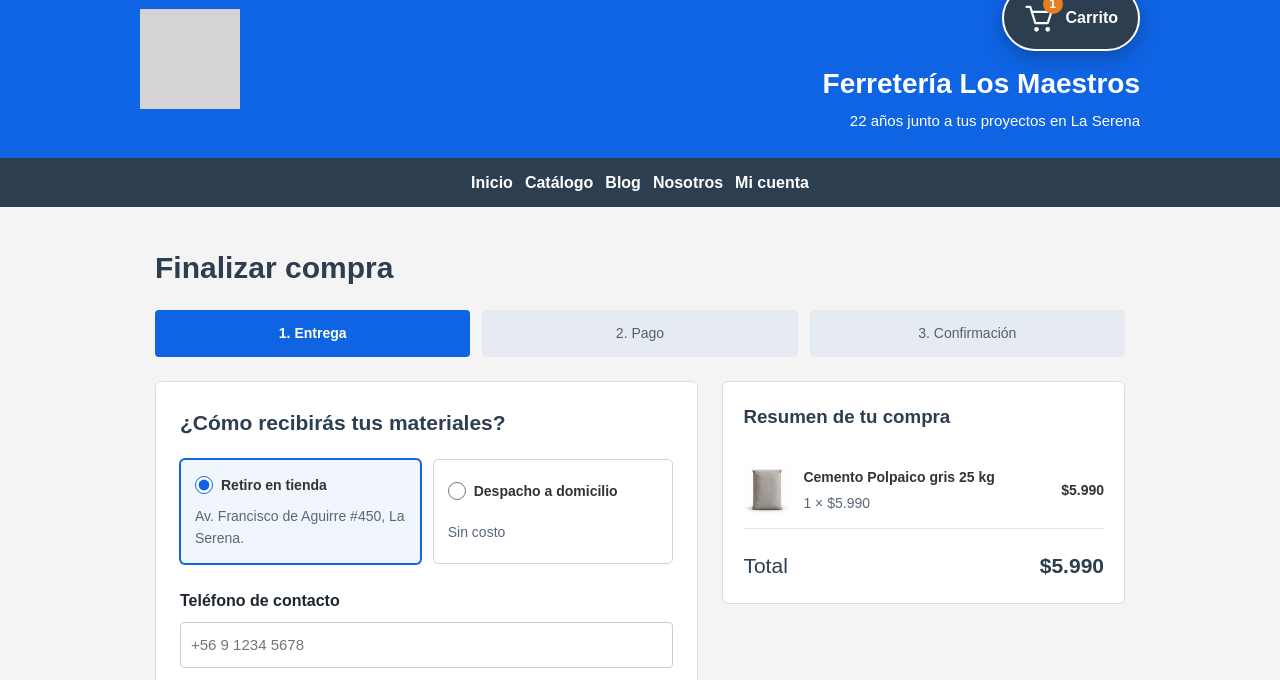
Test case: un pago rechazado conserva el carrito y permite reintentar hasta obtener el comprobante
Type "+56912345678" into the field labelled "Teléfono de contacto" at x=427, y=645, box [180,622,673,668]
(page scrolled)
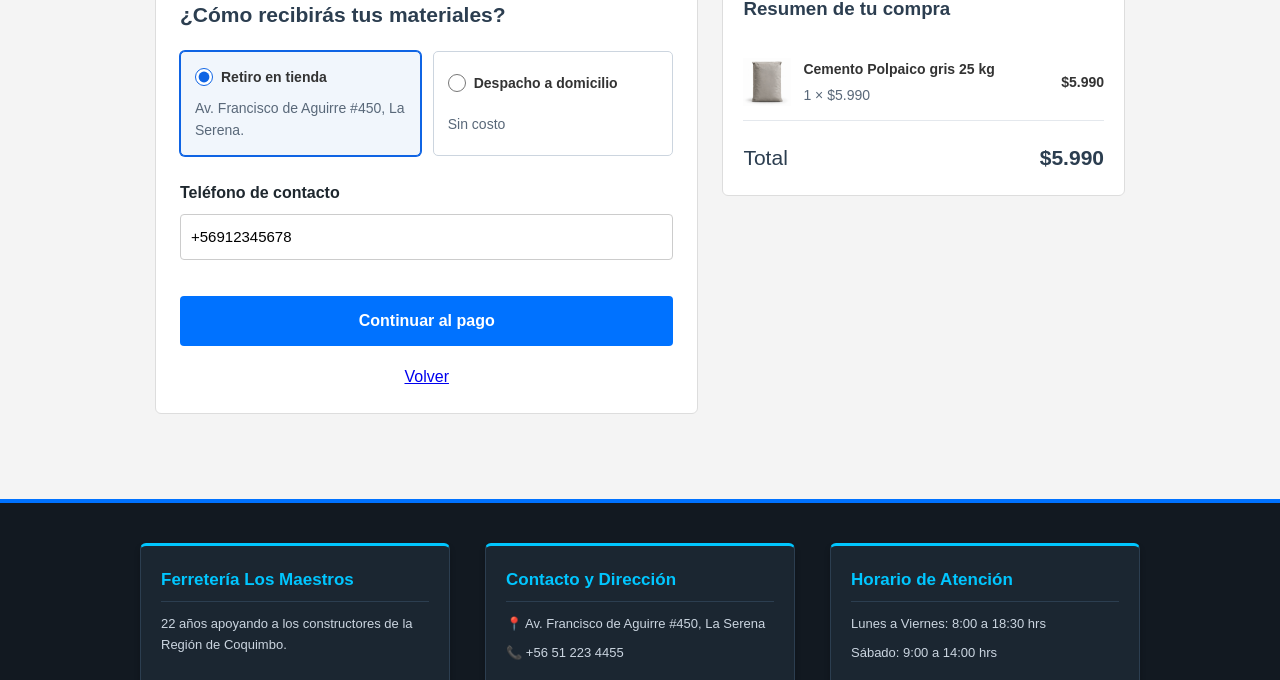
Click the button "Continuar al pago" at x=427, y=321, box [180,296,673,346]
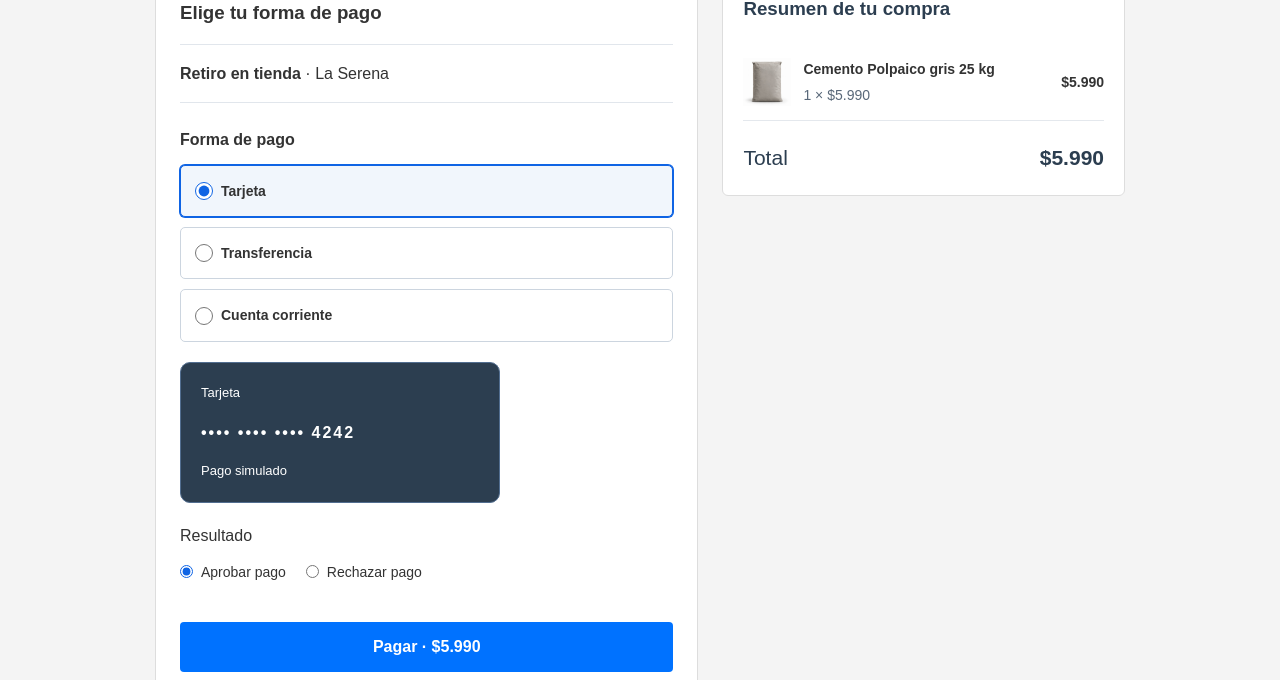
Click the radio button labelled "Rechazar pago" at x=312, y=572, box [306,565,319,578]
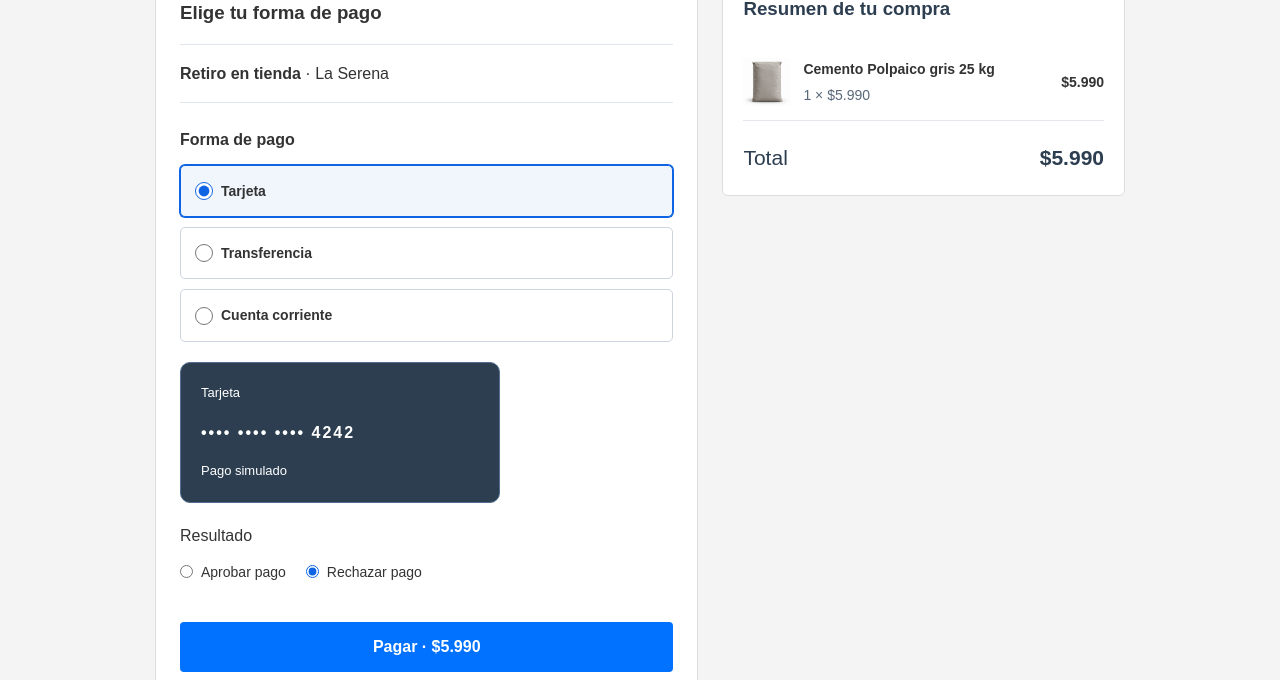
Click the button "Pagar · $5.990" at x=427, y=647, box [180,622,673,672]
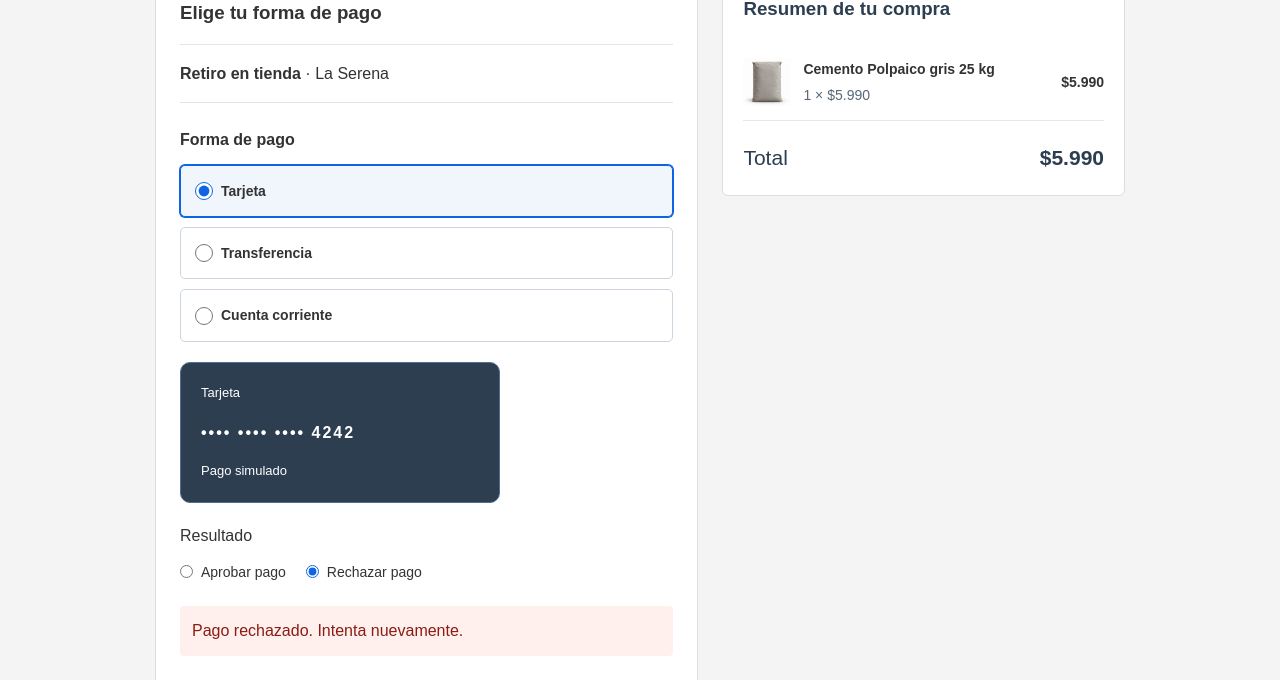
Expected: the message shows "rechazado", [192,622,463,639]
Click the radio button labelled "Aprobar pago" at x=186, y=572, box [180,565,193,578]
(page scrolled)
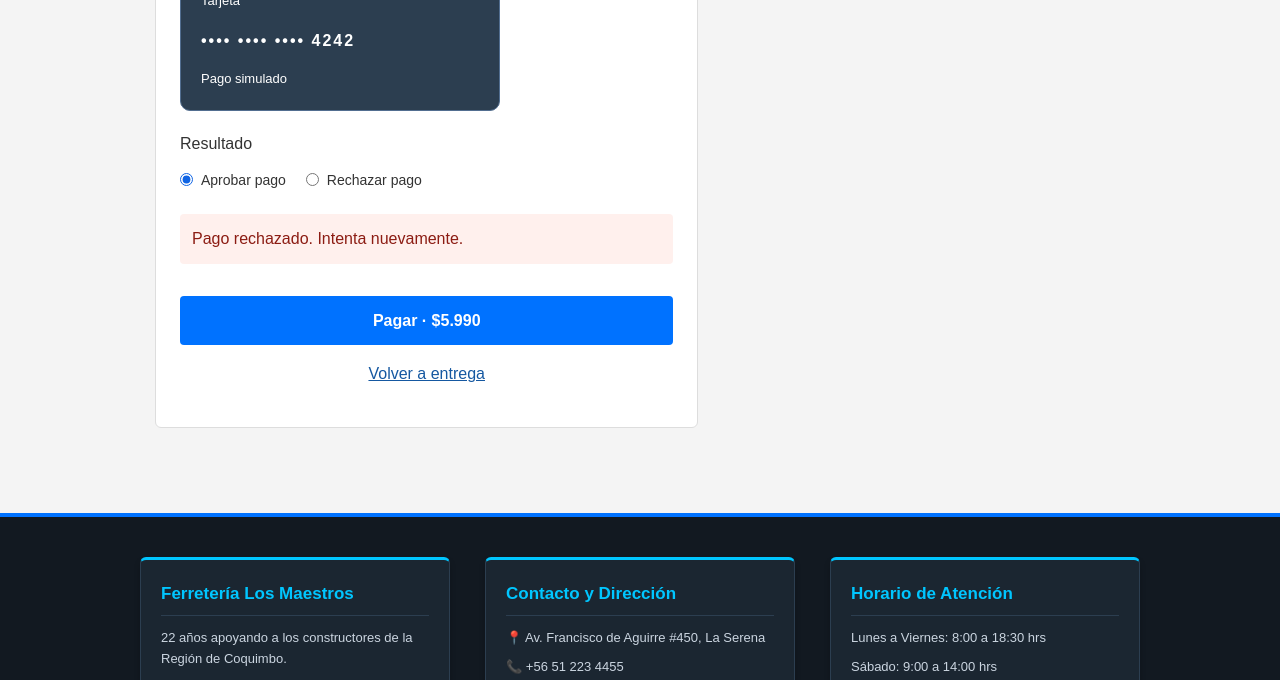
Click the button "Pagar · $5.990" at x=427, y=320, box [180,296,673,345]
(page scrolled)
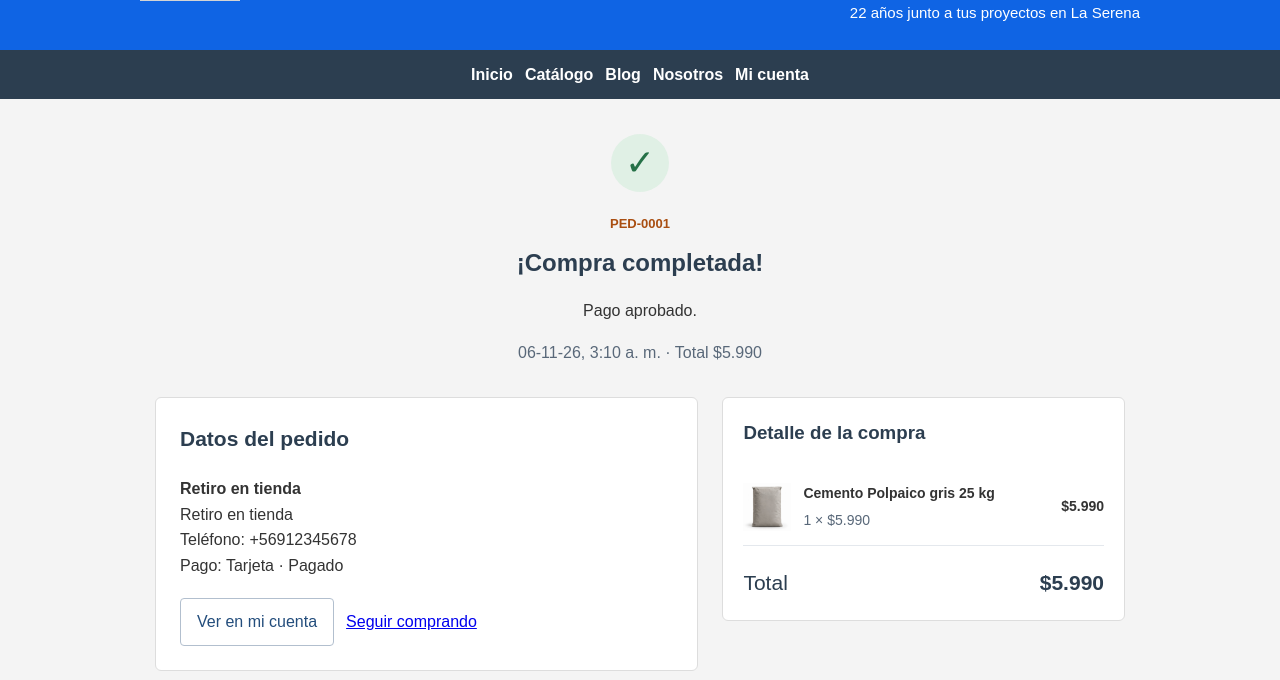
Expected: the heading "¡Compra completada!" is shown, [517,249,763,276]
